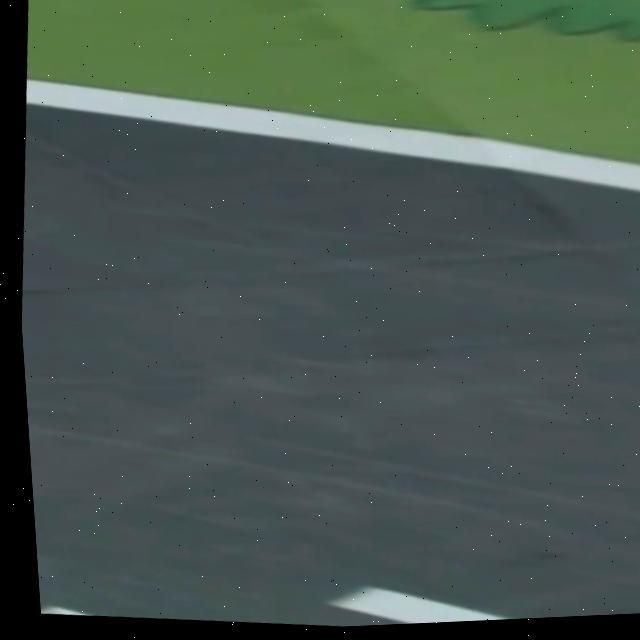center: (331, 589, 508, 624)
right: (25, 79, 640, 192)
